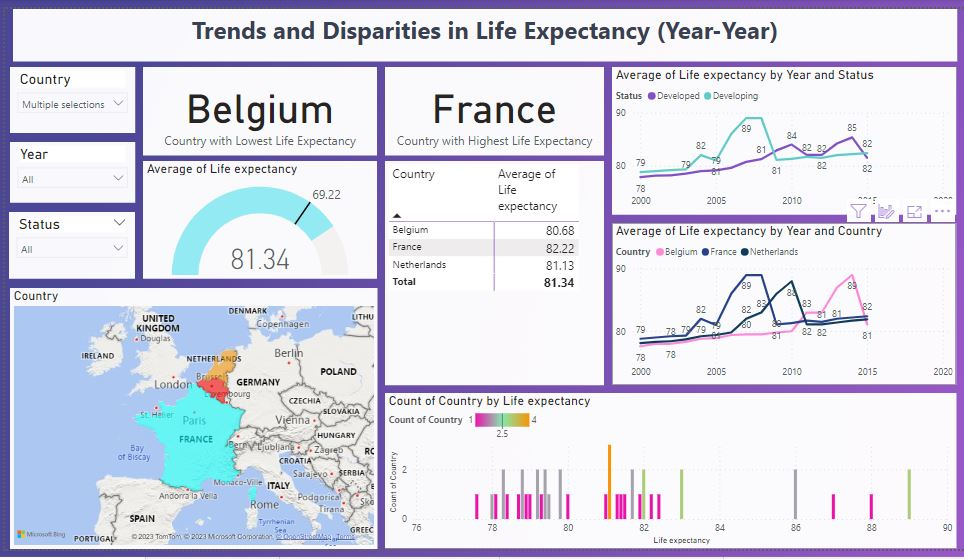

What the dashboard file says about the page in this screenshot:
{"tool":"powerbi","page":{"name":"Trends and Disparities","canvas":[1280,720],"ordinal":0},"visuals":[{"type":"textbox","box":[10.5,0,1259,70.1],"z":0},{"type":"slicer","fields":{"Values":["Life Expectancy Data.Country"]},"box":[7.2,77.8,167,87.8],"z":1000},{"type":"slicer","fields":{"Values":["Life Expectancy Data.Year"]},"box":[7.2,177.1,167,80.6],"z":2000},{"type":"slicer","fields":{"Values":["Life Expectancy Data.Status"]},"box":[5.8,270.7,168.5,89.3],"z":3000},{"type":"filledMap","fields":{"Category":["Life Expectancy Data.Country"]},"box":[7.2,371.5,489.6,348.5],"z":4000},{"type":"lineChart","fields":{"Category":["Life Expectancy Data.Year"],"Y":["Avg(Life Expectancy Data.Life expectancy )"],"Series":["Life Expectancy Data.Status"]},"box":[809.3,77.8,459.4,197.3],"z":5000},{"type":"lineChart","fields":{"Category":["Life Expectancy Data.Year"],"Y":["Avg(Life Expectancy Data.Life expectancy )"],"Series":["Life Expectancy Data.Country"]},"box":[809.3,285.1,459.4,216],"z":6000},{"type":"columnChart","fields":{"Y":["Count(Life Expectancy Data.Country)"],"Category":["Life Expectancy Data.Life expectancy "]},"box":[506.9,512.6,761.8,207.4],"z":7000},{"type":"gauge","fields":{"Y":["Avg(Life Expectancy Data.Life expectancy )"]},"box":[184.3,203,312.5,157],"z":8000},{"type":"card","fields":{"Values":["Life Expectancy Data.Country with Highest Life Expectancy"]},"box":[506.9,77.8,292.3,118.1],"z":9000},{"type":"card","fields":{"Values":["Life Expectancy Data.Country with Lowest Life Expectancy"]},"box":[184.3,77.8,312.5,118.1],"z":10000},{"type":"pivotTable","fields":{"Rows":["Life Expectancy Data.Country"],"Values":["Avg(Life Expectancy Data.Life expectancy )"]},"box":[506.7,202.7,292,298.7],"z":11000}]}

Visuals, with their boxes in screenshot pixels (x1, y1, x2, y2), scaled from the page's 1280x720 canvas onto the 964x559 screenshot:
textbox: select_region(8, 0, 956, 54)
slicer - Life Expectancy Data.Country: select_region(5, 60, 131, 129)
slicer - Life Expectancy Data.Year: select_region(5, 137, 131, 200)
slicer - Life Expectancy Data.Status: select_region(4, 210, 131, 280)
filledMap - Life Expectancy Data.Country: select_region(5, 288, 374, 558)
lineChart - Life Expectancy Data.Year x Avg(Life Expectancy Data.Life expectancy ): select_region(610, 60, 955, 214)
lineChart - Life Expectancy Data.Year x Avg(Life Expectancy Data.Life expectancy ): select_region(610, 221, 955, 389)
columnChart - Count(Life Expectancy Data.Country) x Life Expectancy Data.Life expectancy : select_region(382, 398, 955, 558)
gauge - Avg(Life Expectancy Data.Life expectancy ): select_region(139, 158, 374, 280)
card - Life Expectancy Data.Country with Highest Life Expectancy: select_region(382, 60, 602, 152)
card - Life Expectancy Data.Country with Lowest Life Expectancy: select_region(139, 60, 374, 152)
pivotTable - Life Expectancy Data.Country x Avg(Life Expectancy Data.Life expectancy ): select_region(382, 157, 602, 389)
